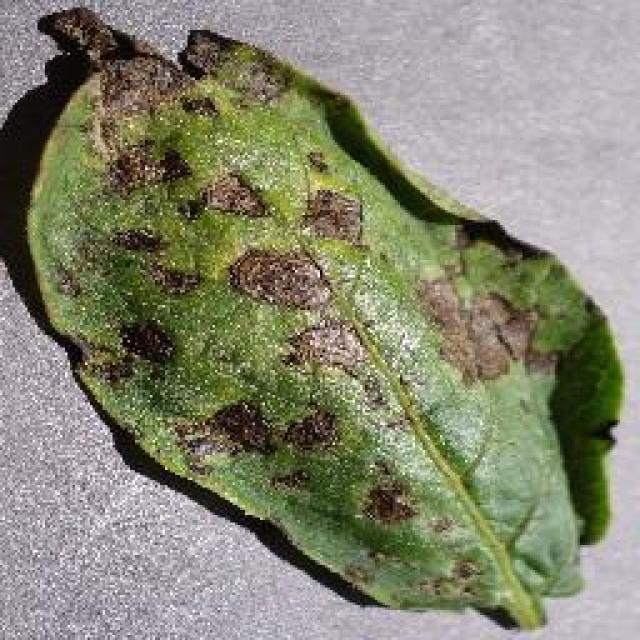early_blight: (15, 3, 627, 635)
